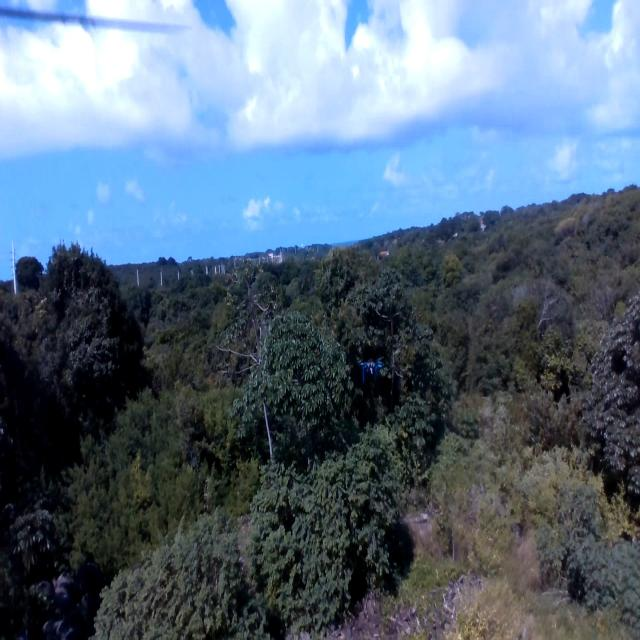-uav-: (360, 354, 387, 388)
